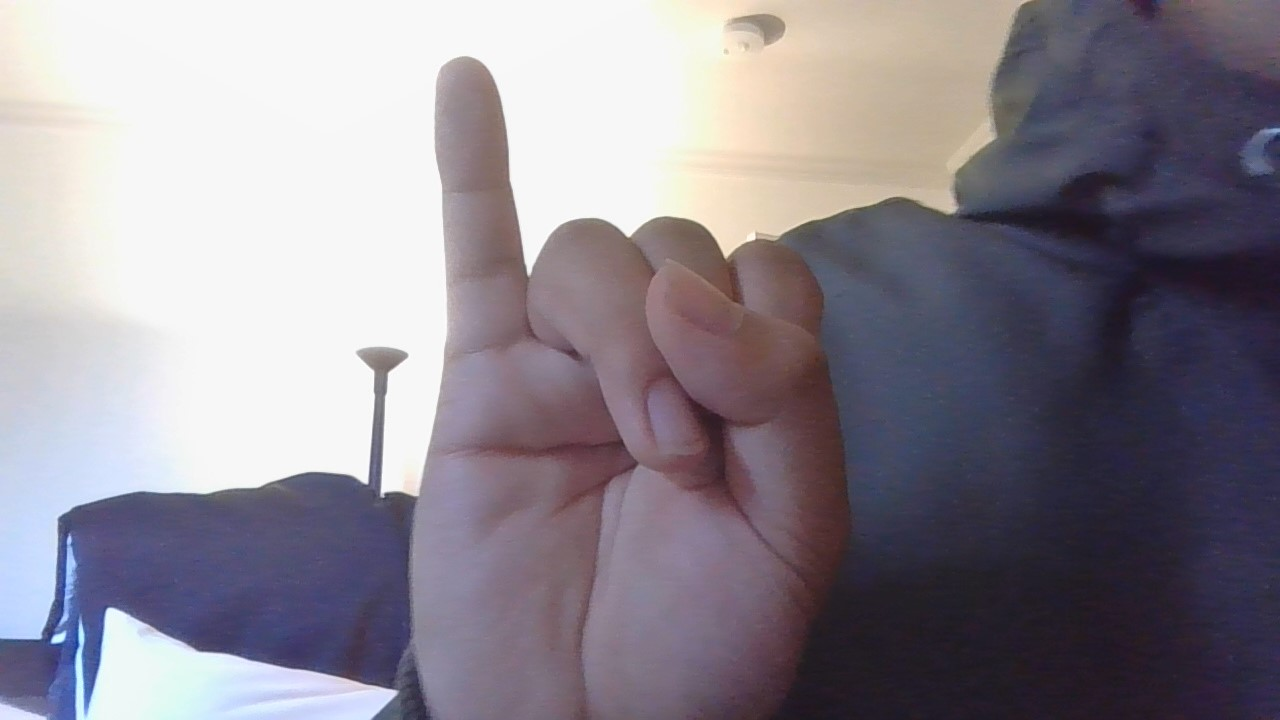i: (310, 39, 905, 720)
